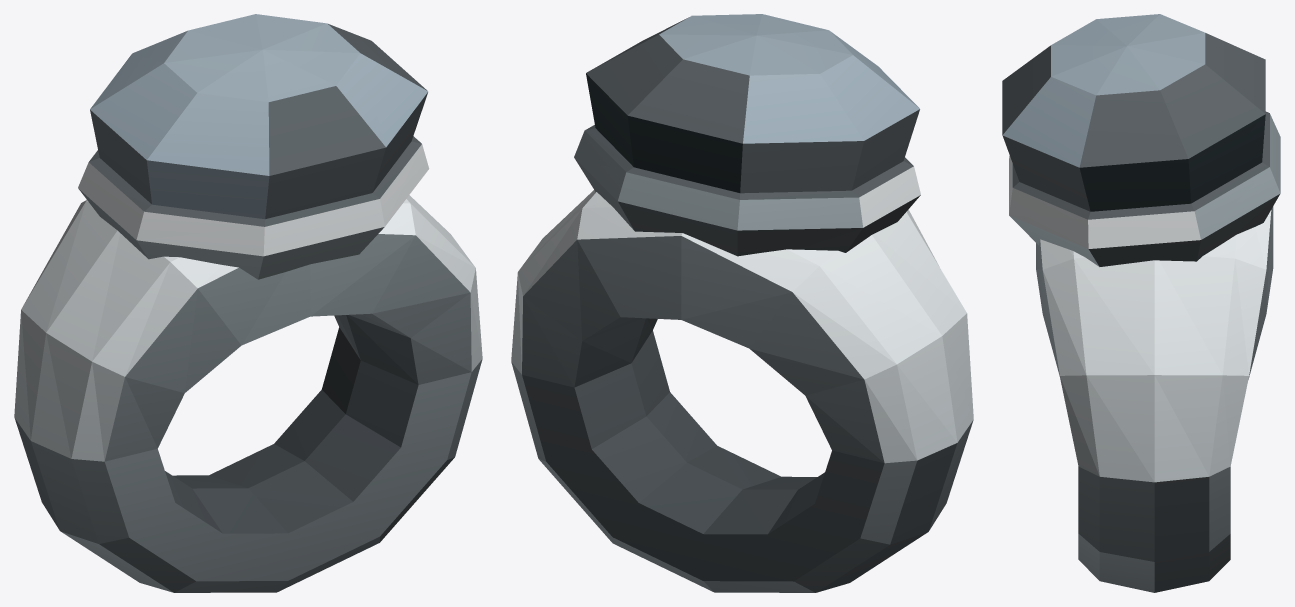
Rendered from ring_silver_onyx.glb.
3 renders of one model, left to right at view 1: azimuth 30°, elevation 25°; view 2: azimuth 150°, elevation 25°; view 3: azimuth 270°, elevation 25°, orthographic. The views are drawn at different scales.
Visible parts, largest first — view 1: model; view 2: model; view 3: model.
Part boxes in pixels (x1,y1,x2,y2): model: [14, 14, 482, 592]; model: [511, 14, 973, 592]; model: [1002, 14, 1280, 592].
Size of the model in its own units: 0.52 by 0.62 by 0.3.
1 material, 1 textured.
